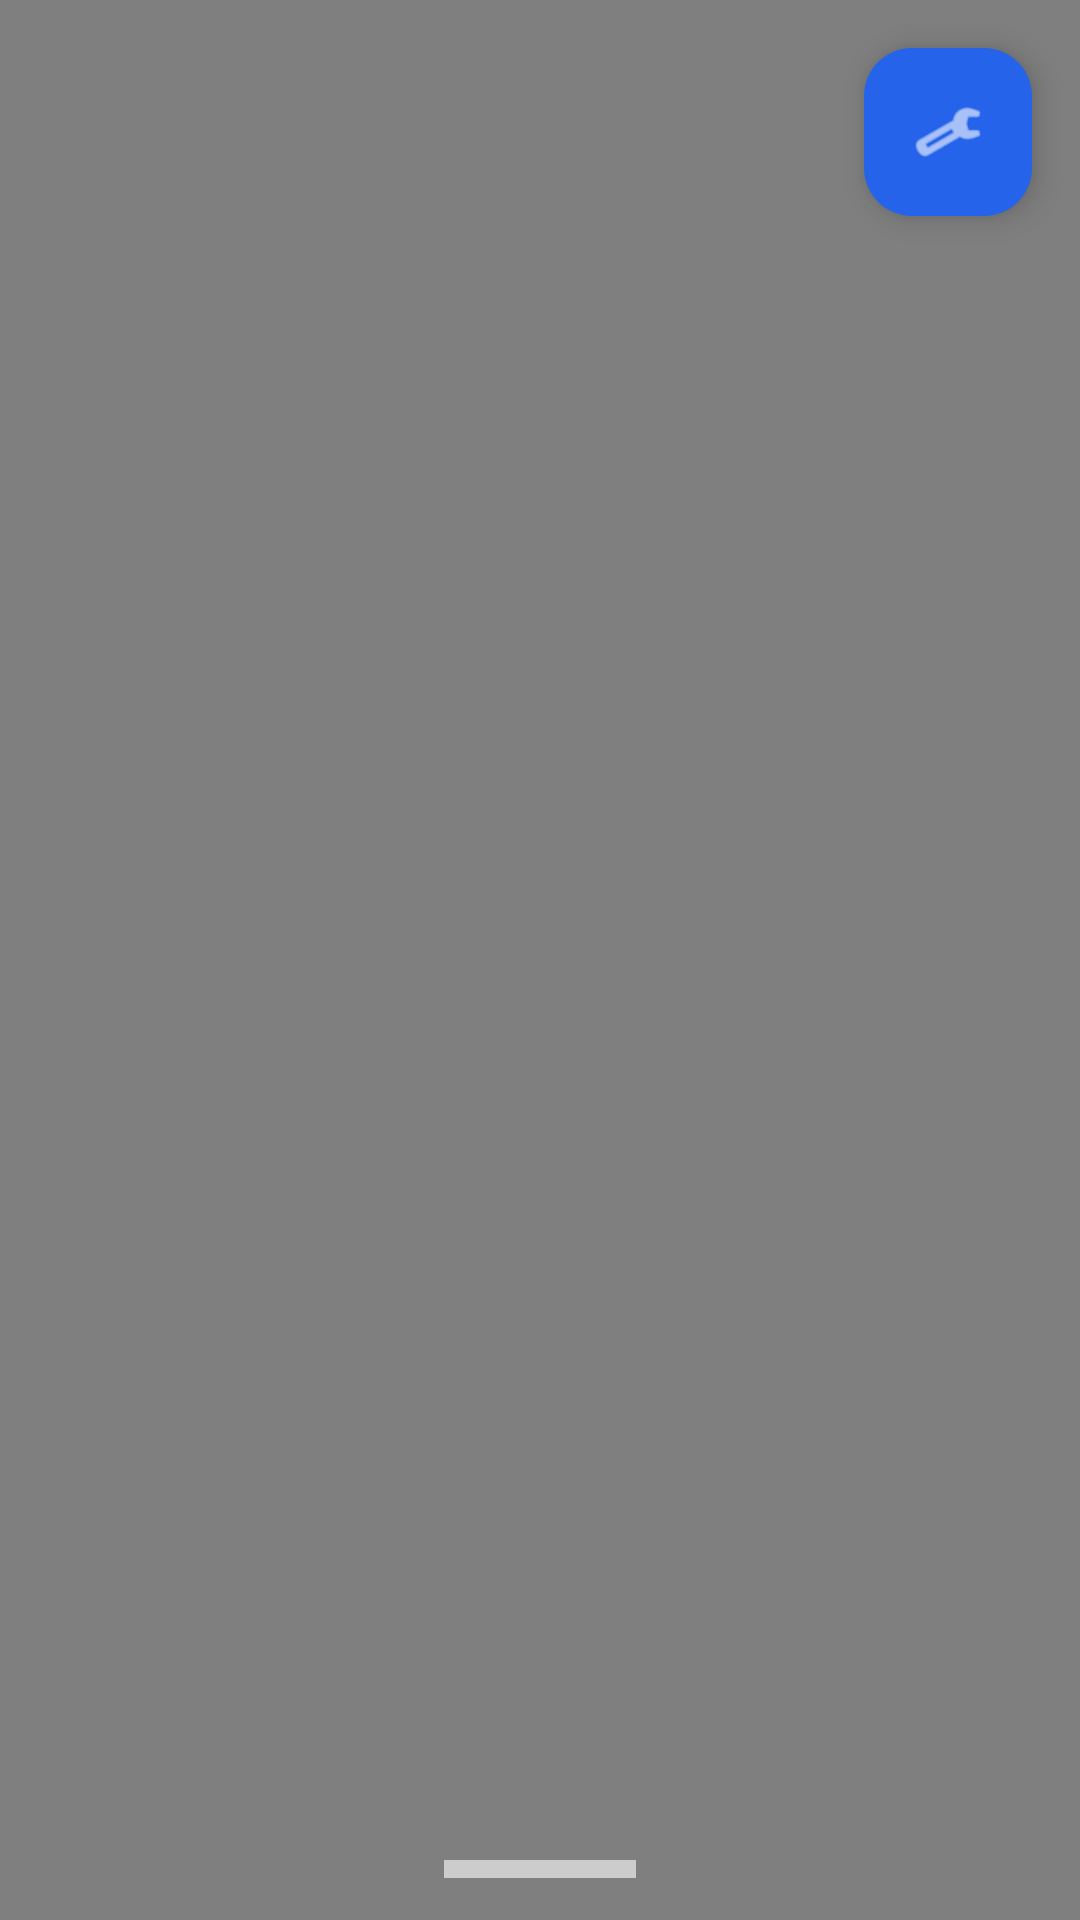

Named icons in this screenshot (1080×1920) and their bounding boxes, bbox=[x1, y1, x2, y2]:
Accessibility Settings: bbox=[864, 48, 1032, 216]
